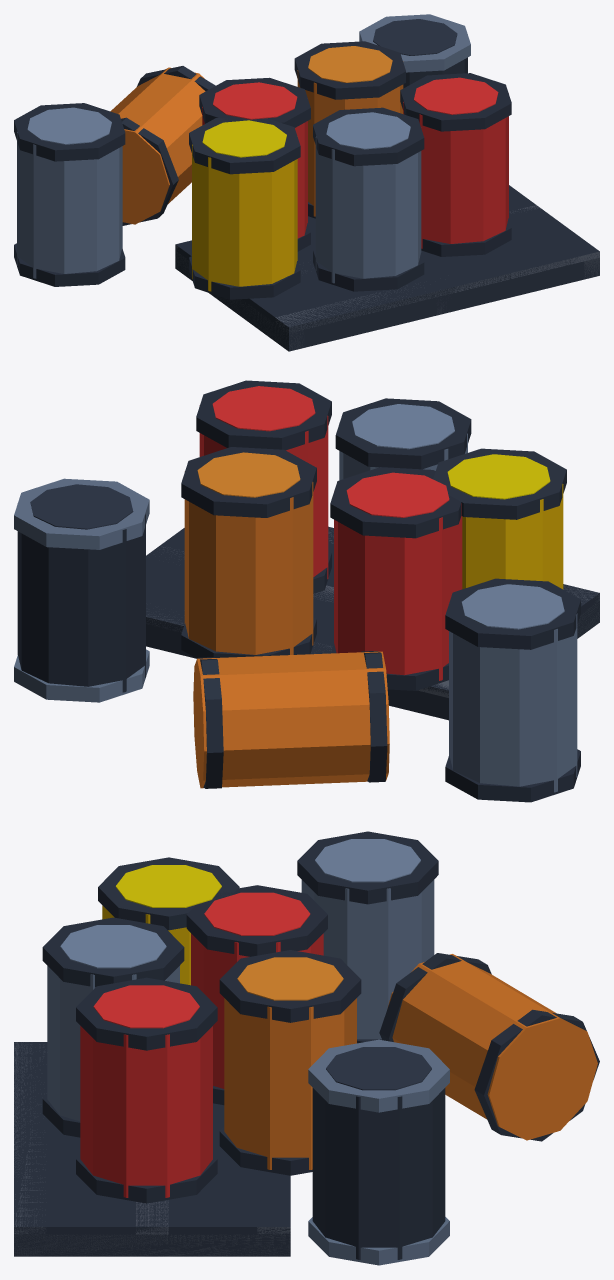
The model's file is Decor_MechaHangar_Drums.fbx.
The picture shows the model from 3 angles, top to bottom: view 1: azimuth 30°, elevation 25°; view 2: azimuth 150°, elevation 25°; view 3: azimuth 270°, elevation 25°; orthographic projection. The views are drawn at different scales.
Parts seen in each view (by area): view 1: Drums_Body; view 2: Drums_Body; view 3: Drums_Body.
Boxes of the visible parts, <box> form: Drums_Body: <box>14,14,599,351</box>; Drums_Body: <box>14,380,599,802</box>; Drums_Body: <box>14,831,599,1265</box>.
Size of the model in its own units: 11.4 by 4 by 10.56.
